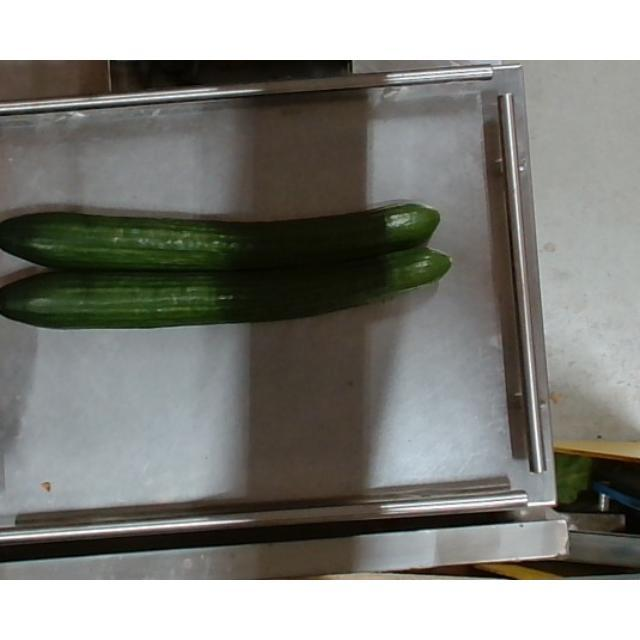cucumber: (0, 247, 450, 329), (0, 202, 440, 272)
